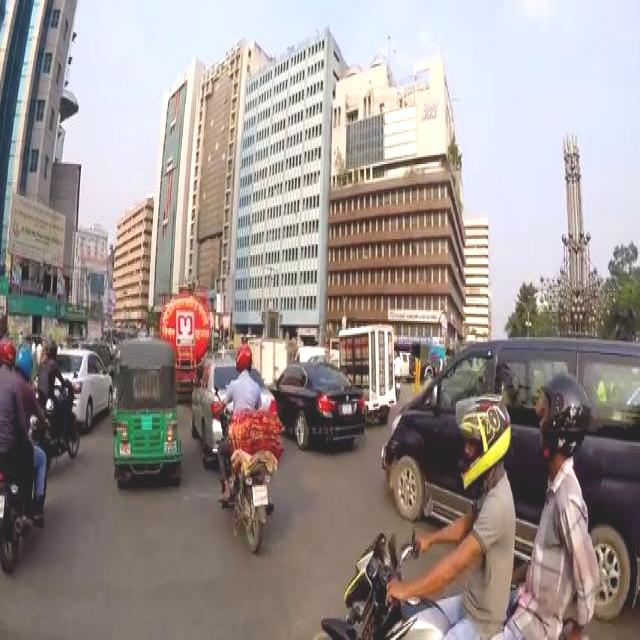MOTORCYCLE: (214, 404, 278, 550), (0, 424, 48, 567)
